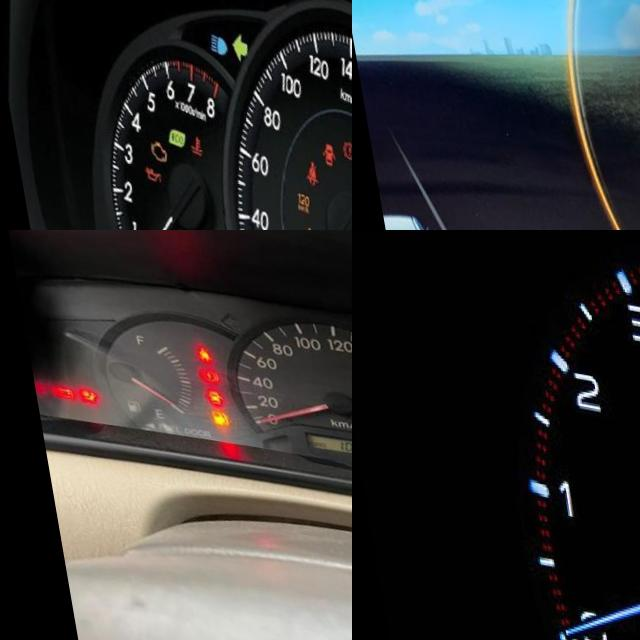High Engine Coolant Temperature: (180, 128, 193, 149)
Seat Belt: (292, 147, 310, 176), (188, 338, 204, 356)
